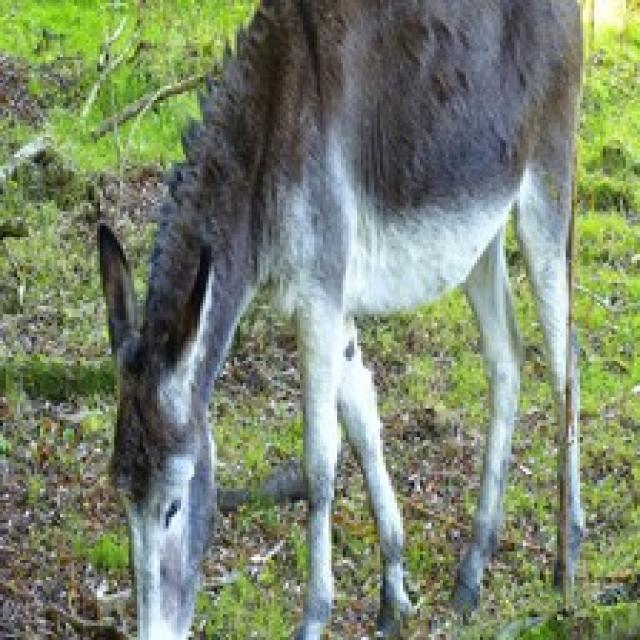Donkey: (70, 0, 630, 640)
